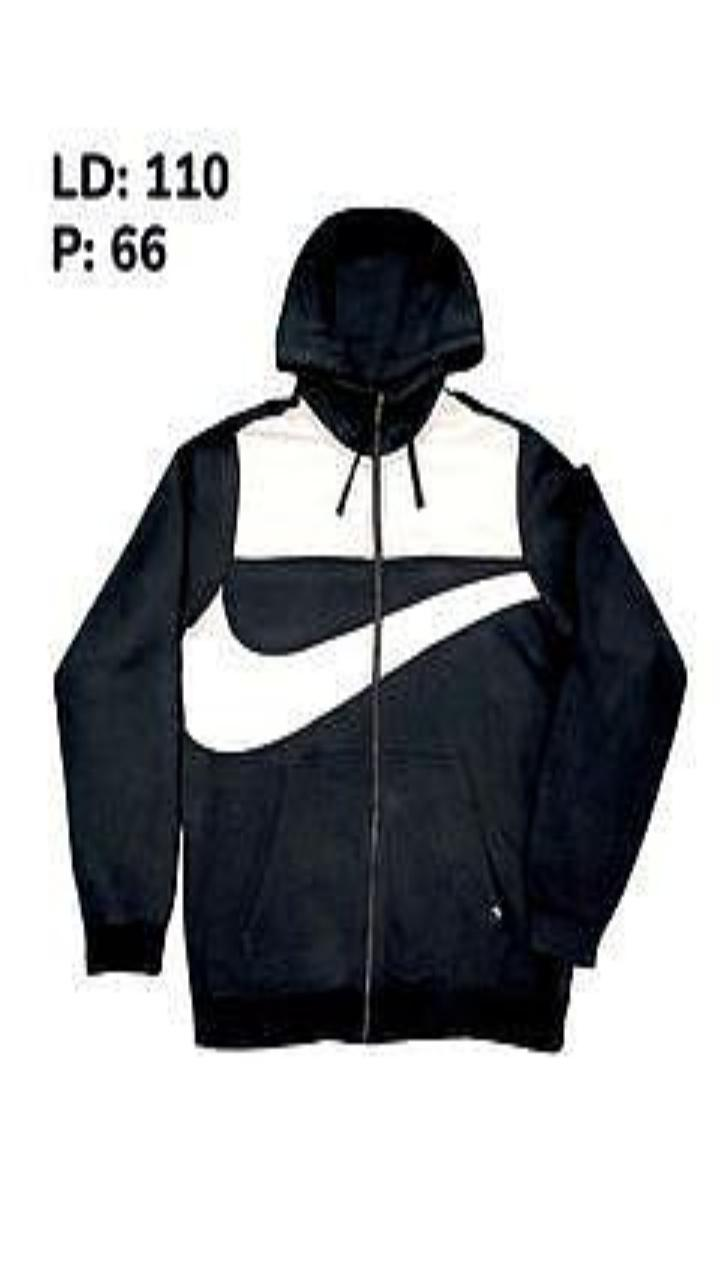Sports_Jacket: (54, 208, 685, 1049)
